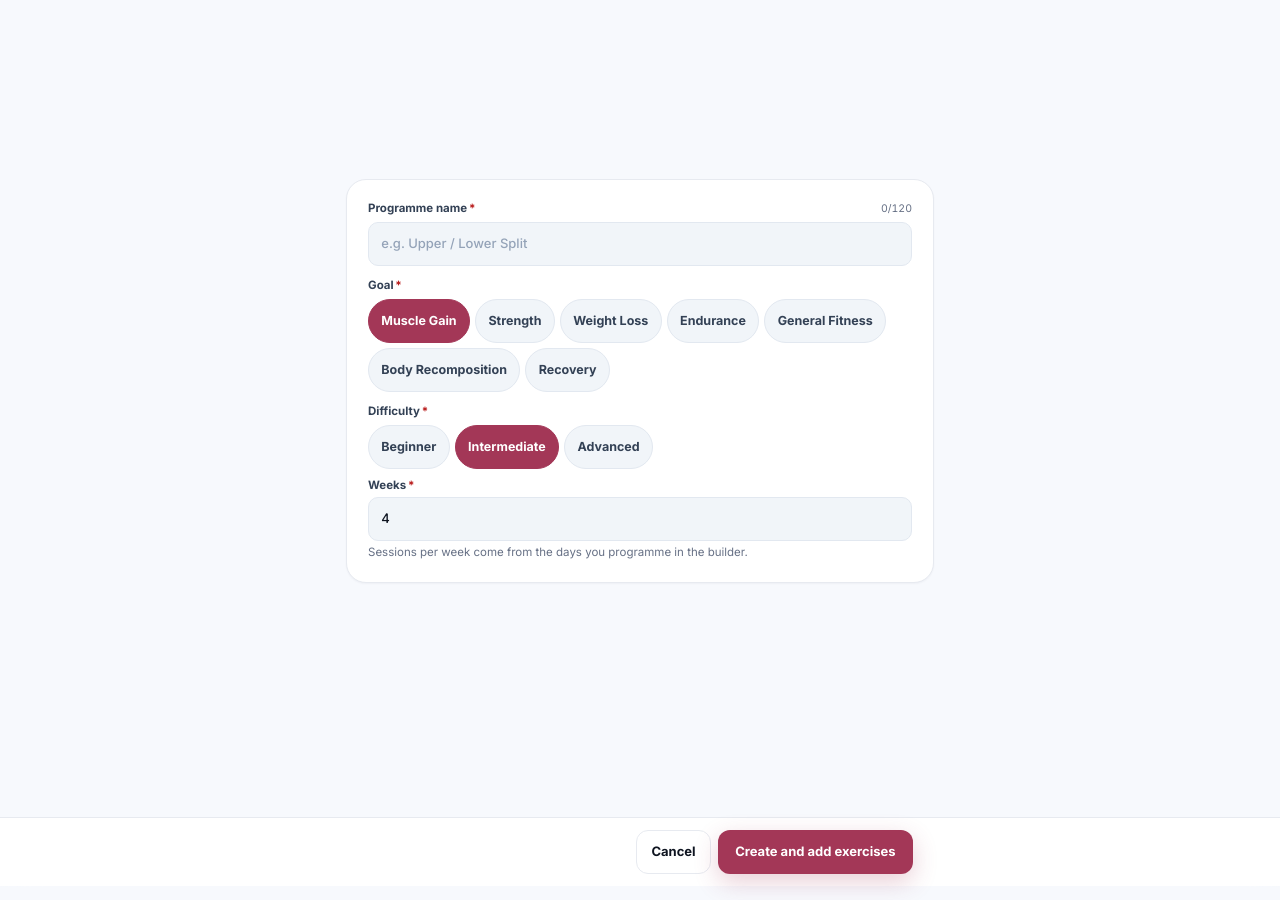
it: bounds without silently rewriting what was typed › blocks 2.5 weeks and does not create anything
Type "Test" into the field with placeholder "e.g. Upper / Lower Split" at [640, 244], box [368,222,912,266]
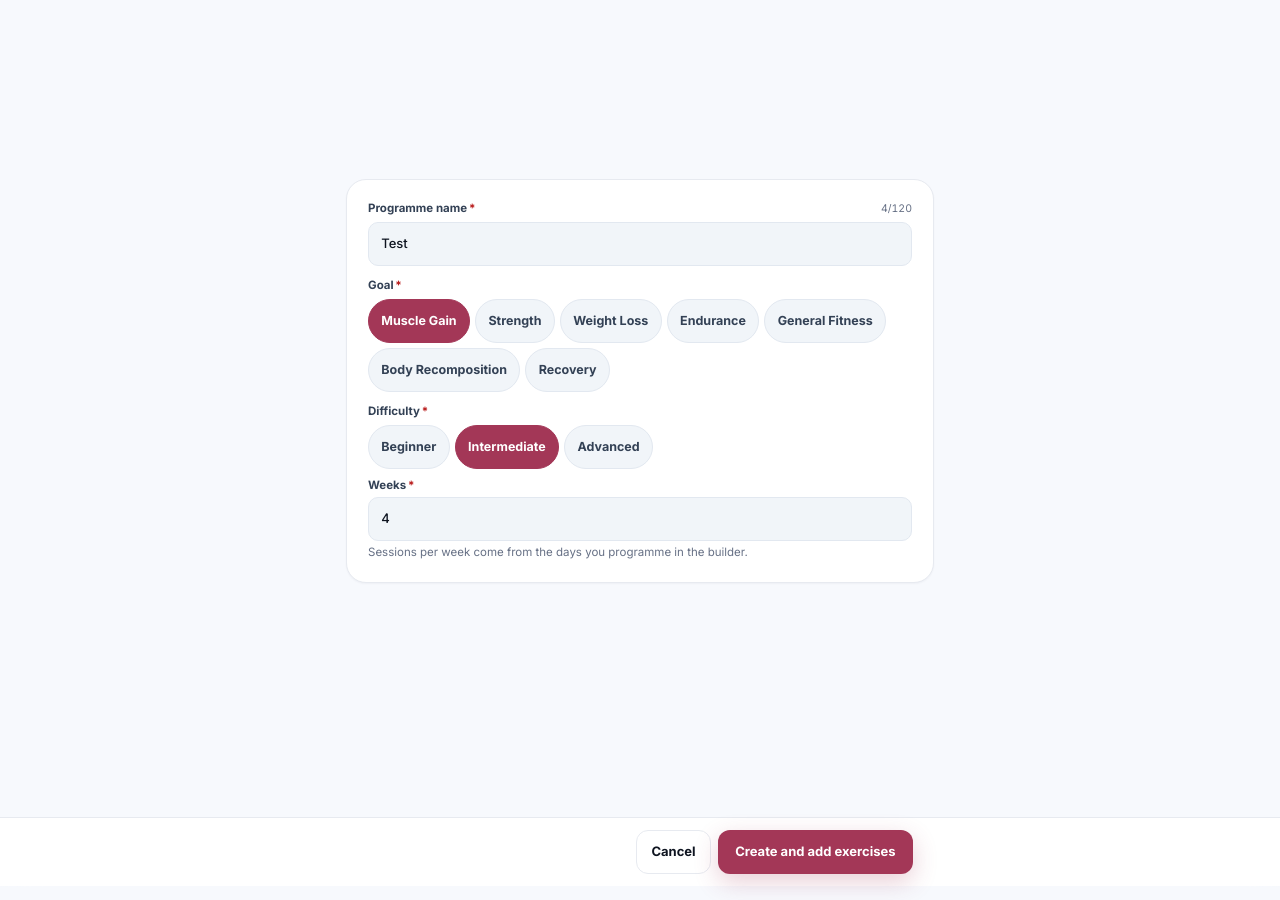
Replace the text in the field labelled "Weeks" with "2.5" at [640, 519], box [368,497,912,541]
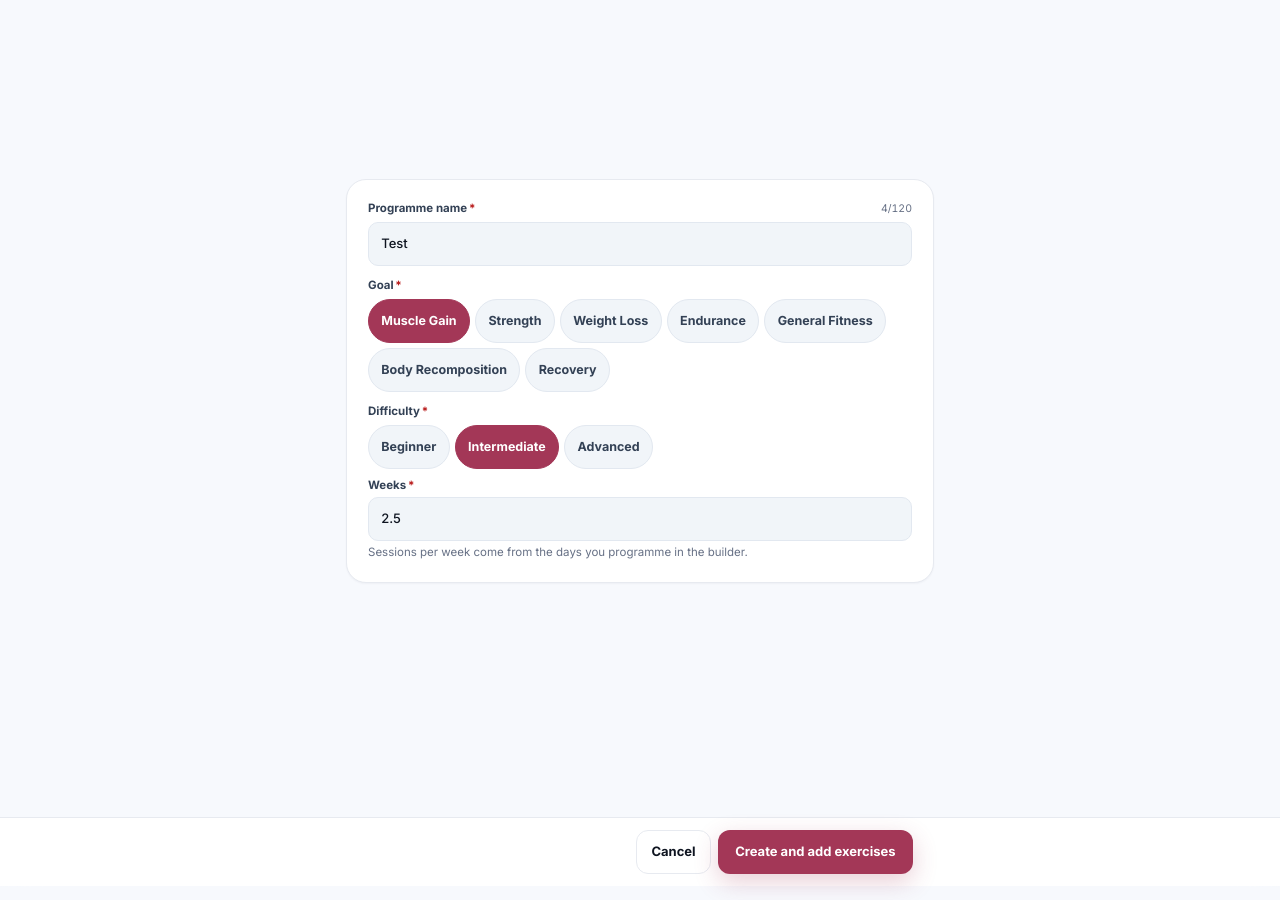
Click the button "Create and add exercises" at [815, 852], box [718,830,913,874]
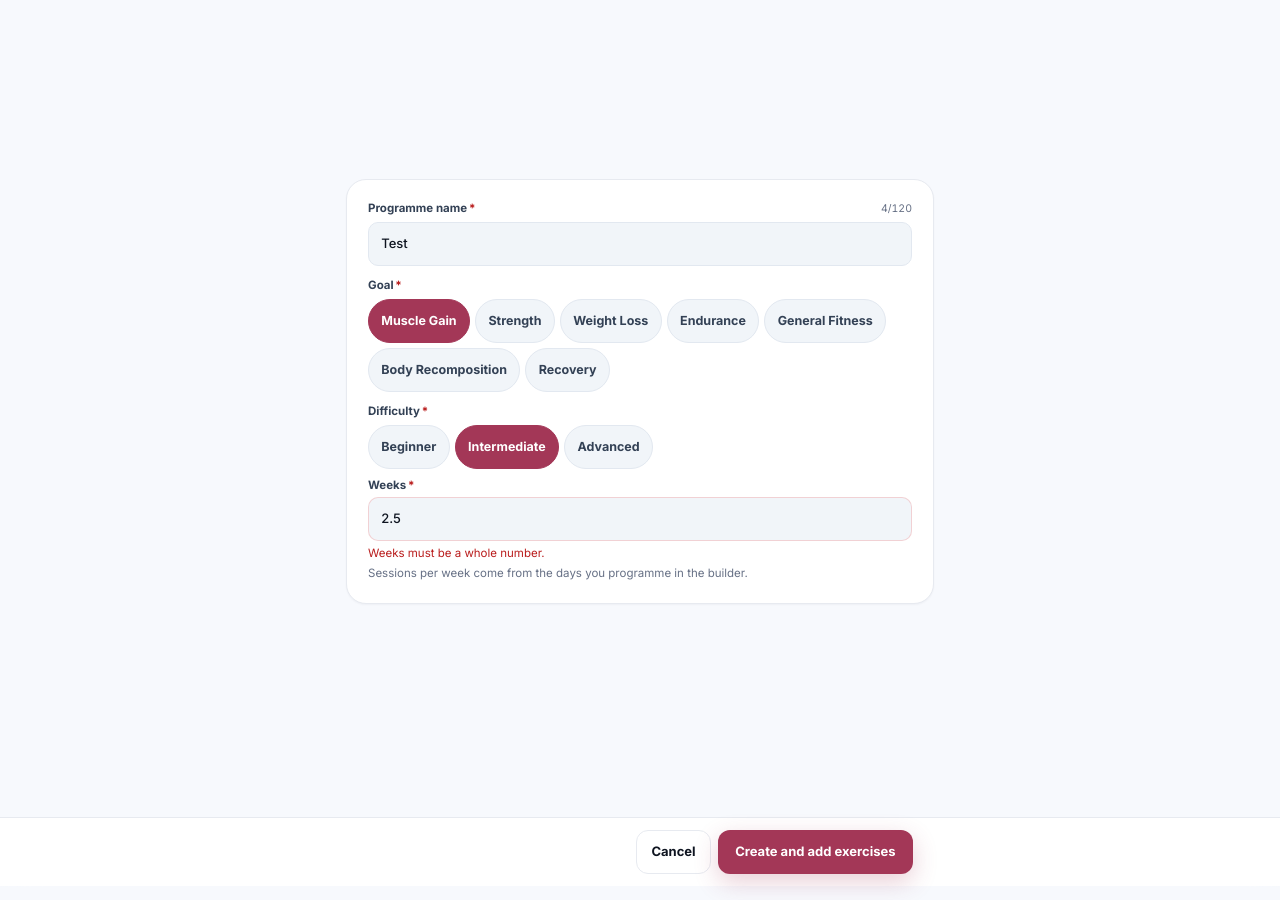
Expected: the text "Weeks must be a whole number." is shown, [368,546,545,560]
